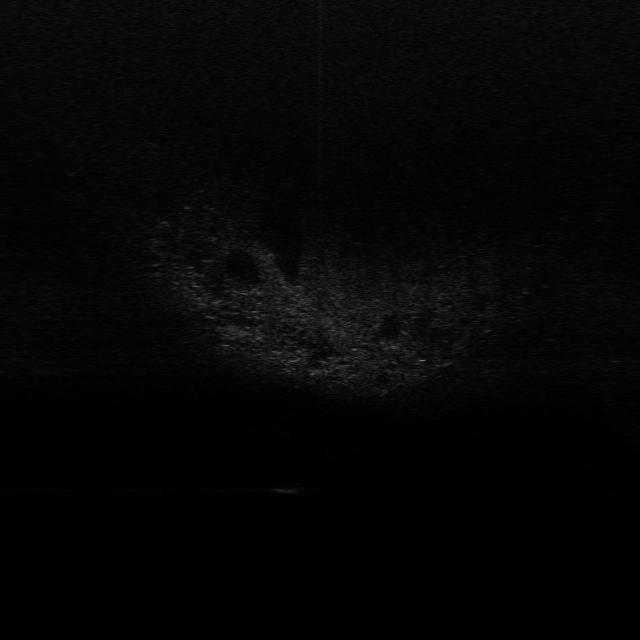cube: (268, 478, 307, 497)
